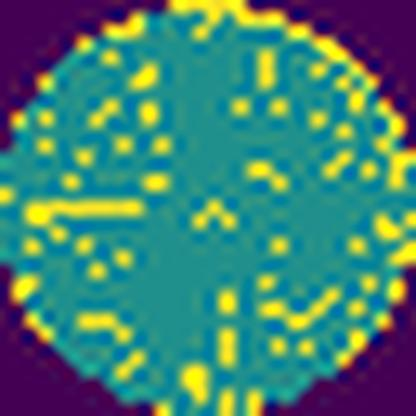Scratch: (21, 195, 151, 248)
